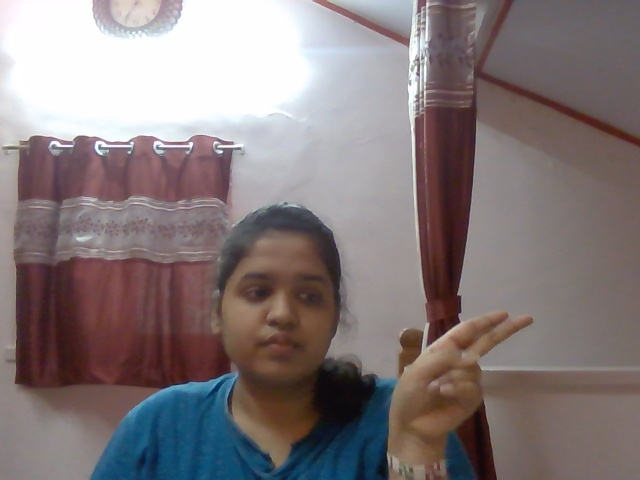h: (384, 311, 545, 432)
